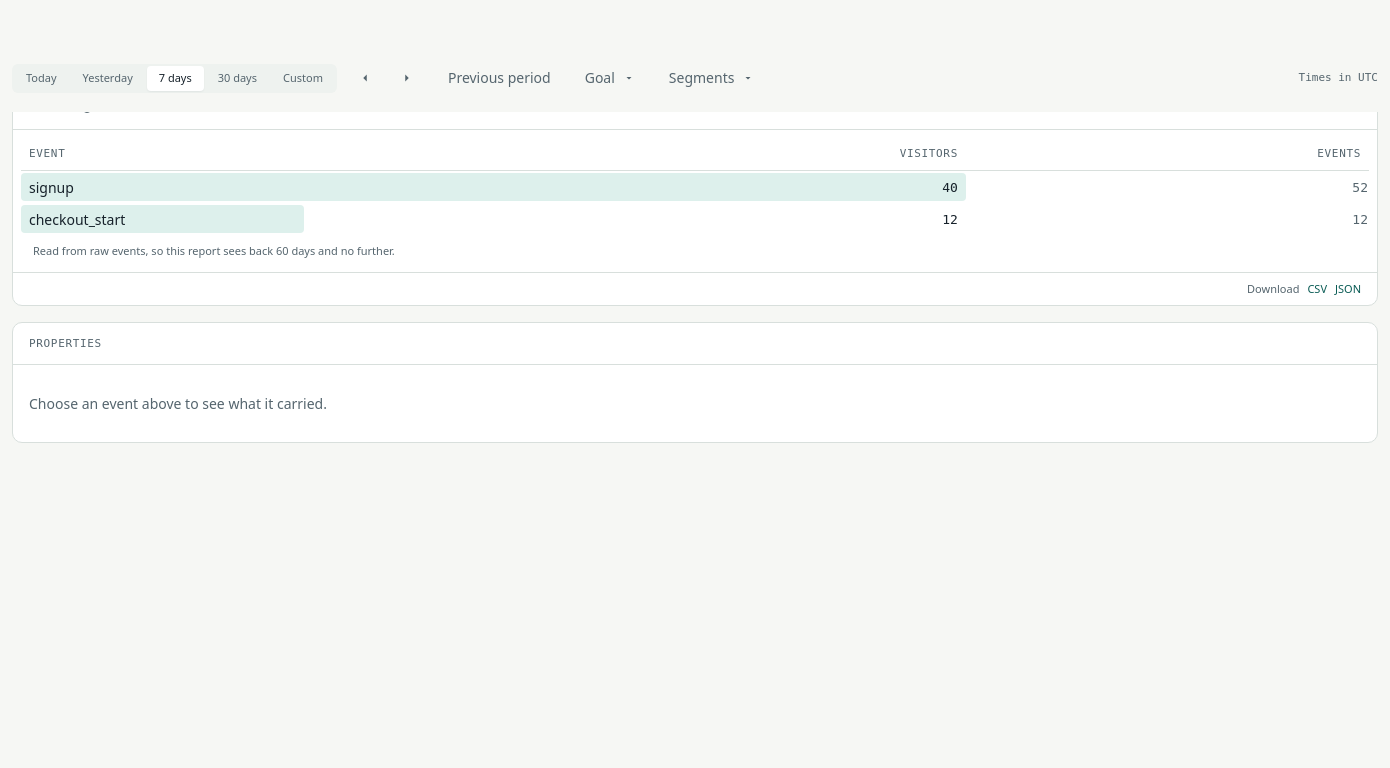
Scenario: Events, the list › chooses an event by filtering the page to it
Expected: the text "signup" is shown, [29,177,74,198]
Expected: the text "Choose an event above to see what it carried." is shown, [29,393,327,414]
Step 1. Click the button "signup 40" → [51, 187], box [21,171,966,203]
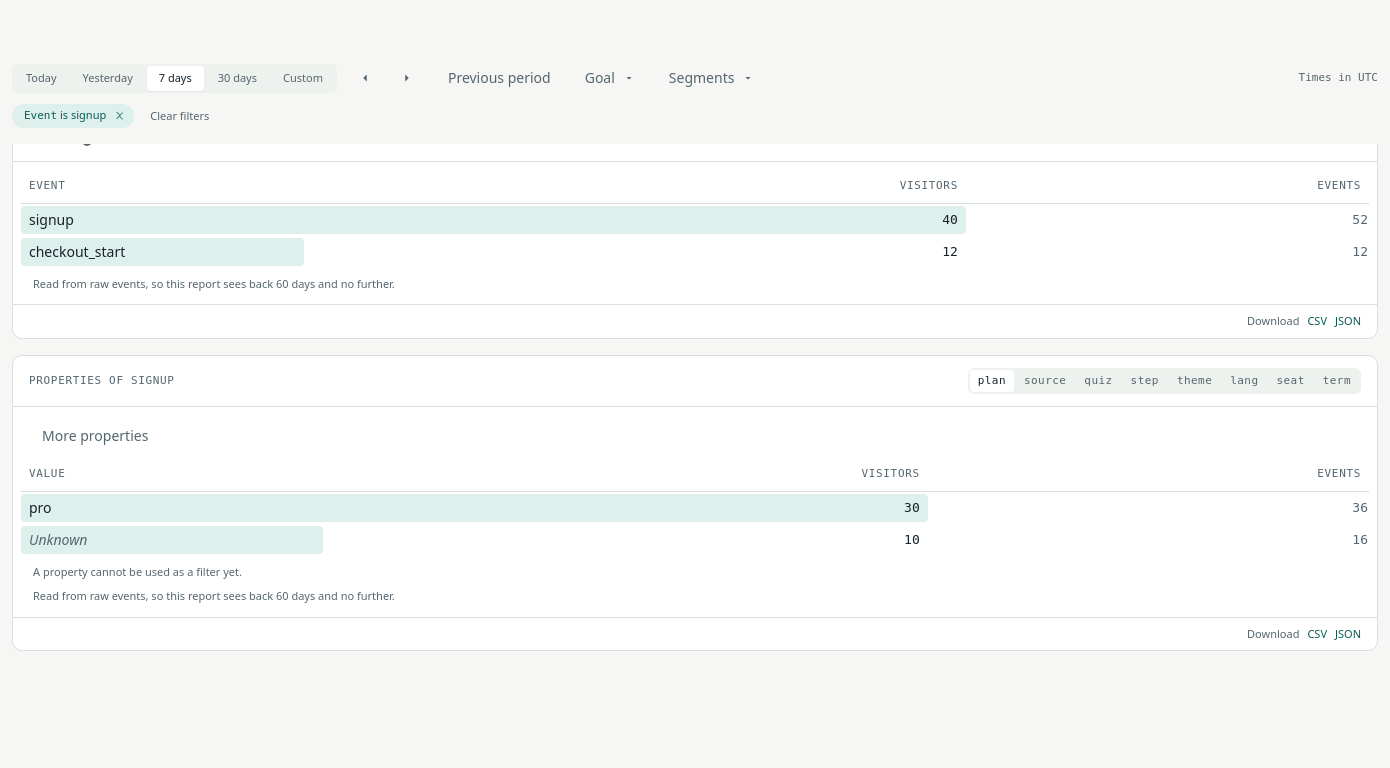
Now the element "Properties of signup" is shown, box [12,355,1378,651]
